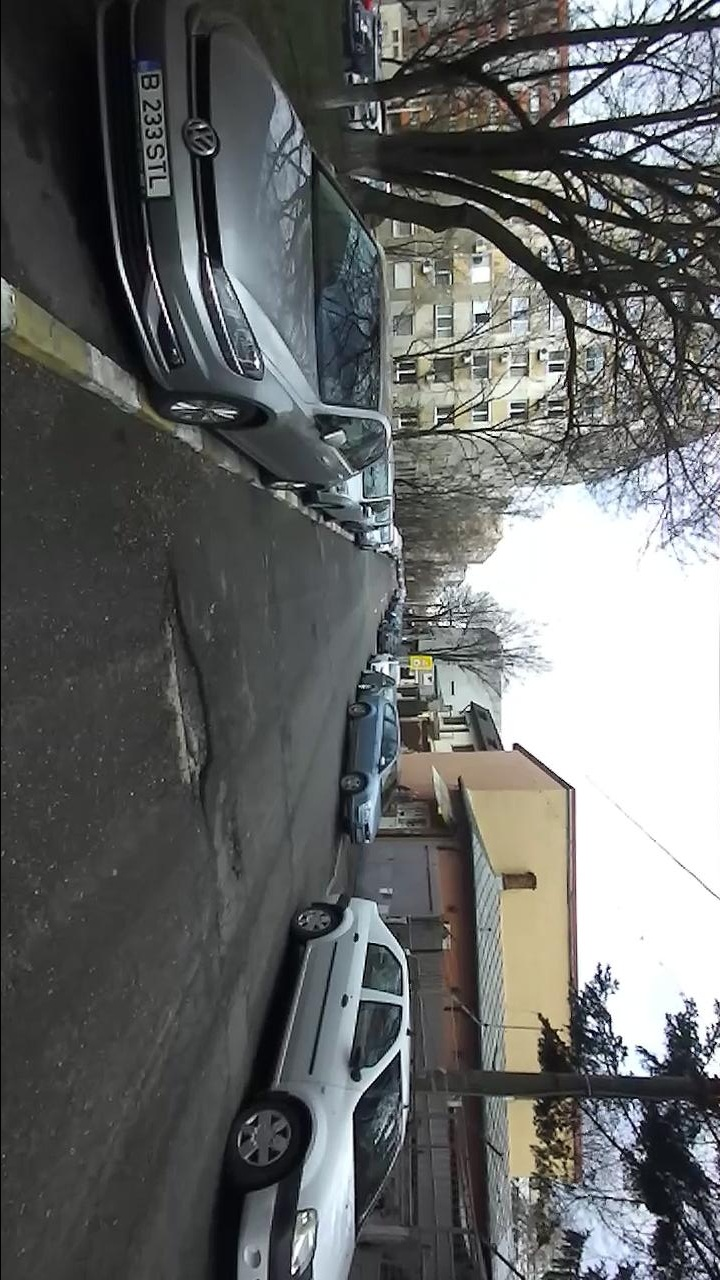pothole: (159, 550, 218, 830), (224, 795, 250, 890)
